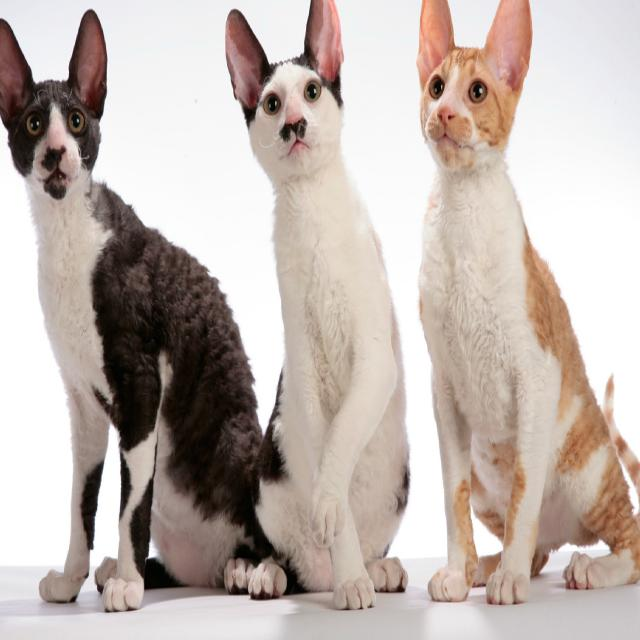Cornish Rex: (0, 2, 266, 619), (412, 0, 640, 612), (223, 0, 412, 615)
